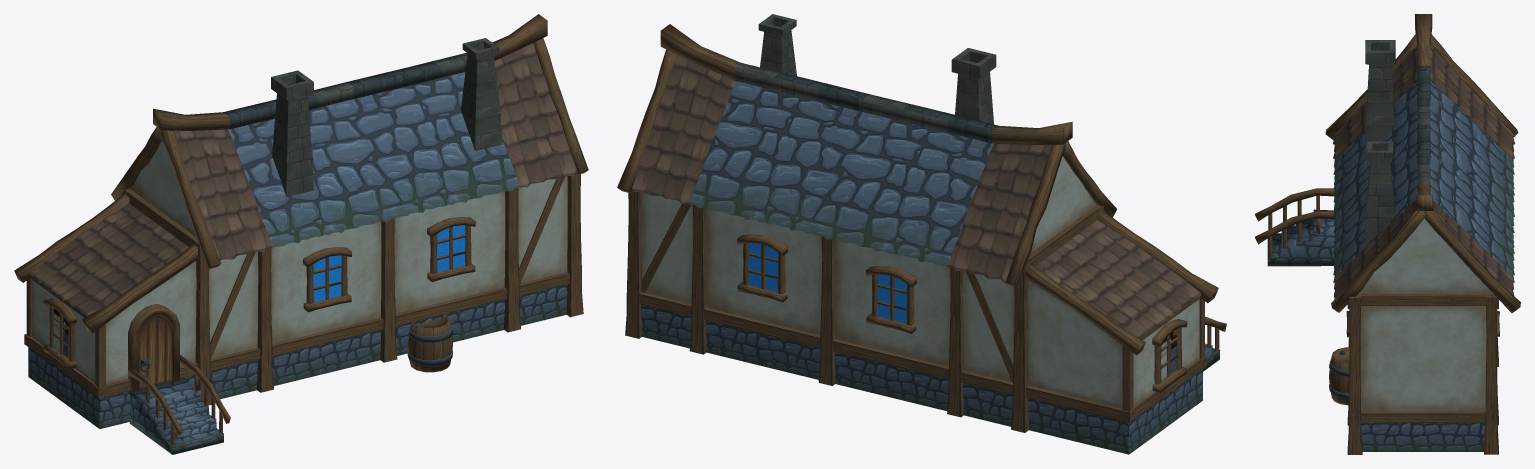
File: house1.fbx
3 renders of one model, left to right at view 1: azimuth 30°, elevation 25°; view 2: azimuth 150°, elevation 25°; view 3: azimuth 270°, elevation 25°, orthographic. The views are drawn at different scales.
Visible parts, largest first — view 1: WallTileFlat.009; view 2: WallTileFlat.009; view 3: WallTileFlat.009.
Boxes of the visible parts, x1,y1,x2,y2 form: WallTileFlat.009: (14, 14, 588, 454); WallTileFlat.009: (617, 14, 1226, 454); WallTileFlat.009: (1255, 14, 1520, 454).
Bounding box in the file's own units: 1981 × 1162 × 956.
3 materials, 3 textured.
